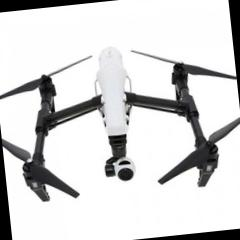drone: (0, 40, 240, 212)
